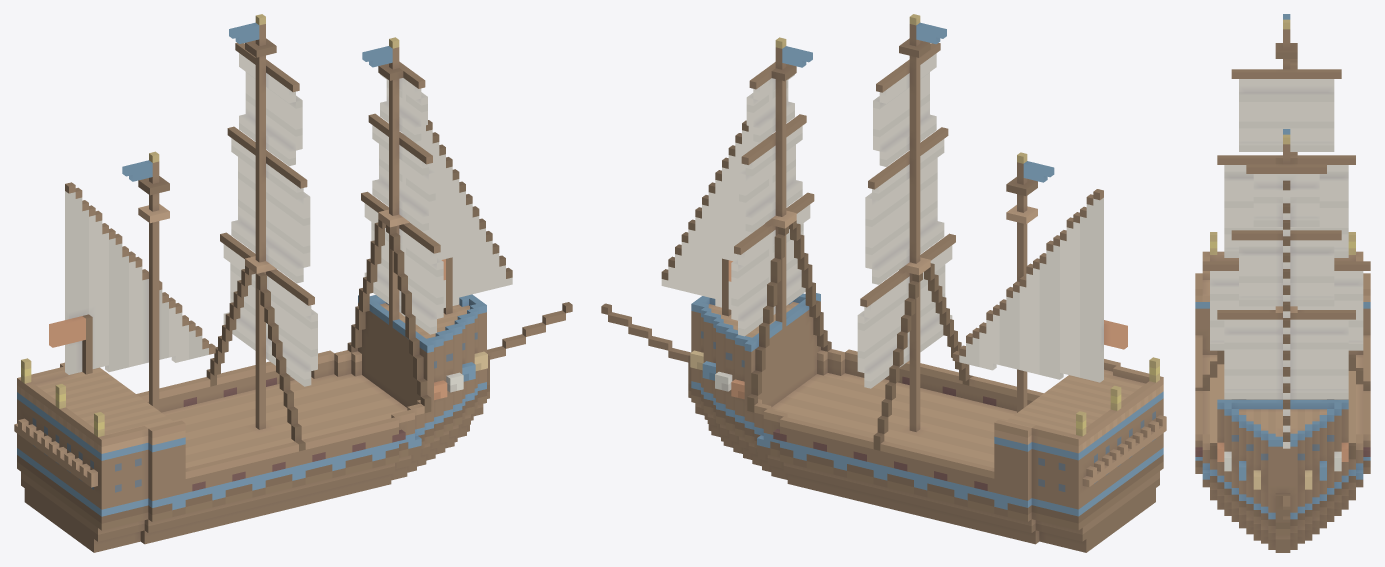
Rendered from war_carrack.glb.
3 views of the same model, side by side, from view 1: azimuth 30°, elevation 25°; view 2: azimuth 150°, elevation 25°; view 3: azimuth 270°, elevation 25° (orthographic). The views are drawn at different scales.
Parts seen in each view (by area): view 1: war_carrack; view 2: war_carrack; view 3: war_carrack.
Part boxes in pixels (box(x1,y1,x2,y2)): war_carrack: box(14, 14, 572, 552); war_carrack: box(601, 14, 1166, 552); war_carrack: box(1195, 14, 1370, 552).
Size of the model in its own units: 3.9 by 3.3 by 1.2.
